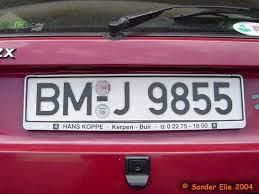5: (191, 81, 213, 117), (211, 80, 233, 114)
8: (169, 81, 190, 117)
9: (145, 81, 168, 115)
B: (32, 82, 61, 118)
J: (113, 81, 134, 117)
M: (62, 81, 93, 117)
